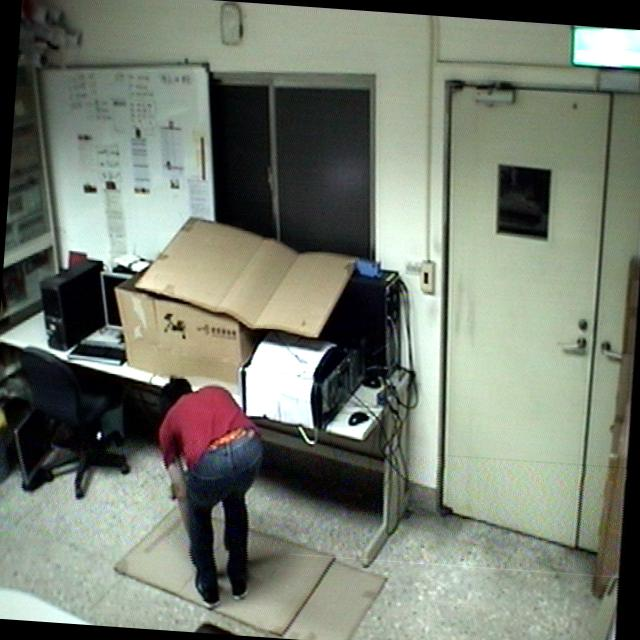bend: (138, 363, 279, 614)
